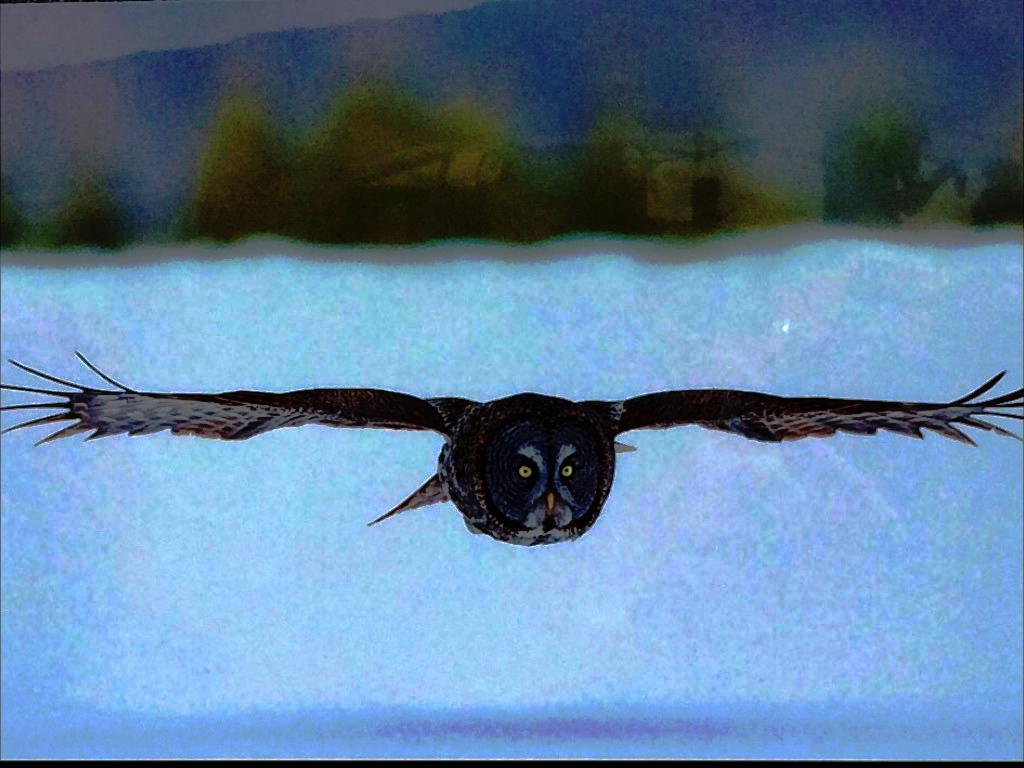Owl: (0, 352, 1024, 547)
